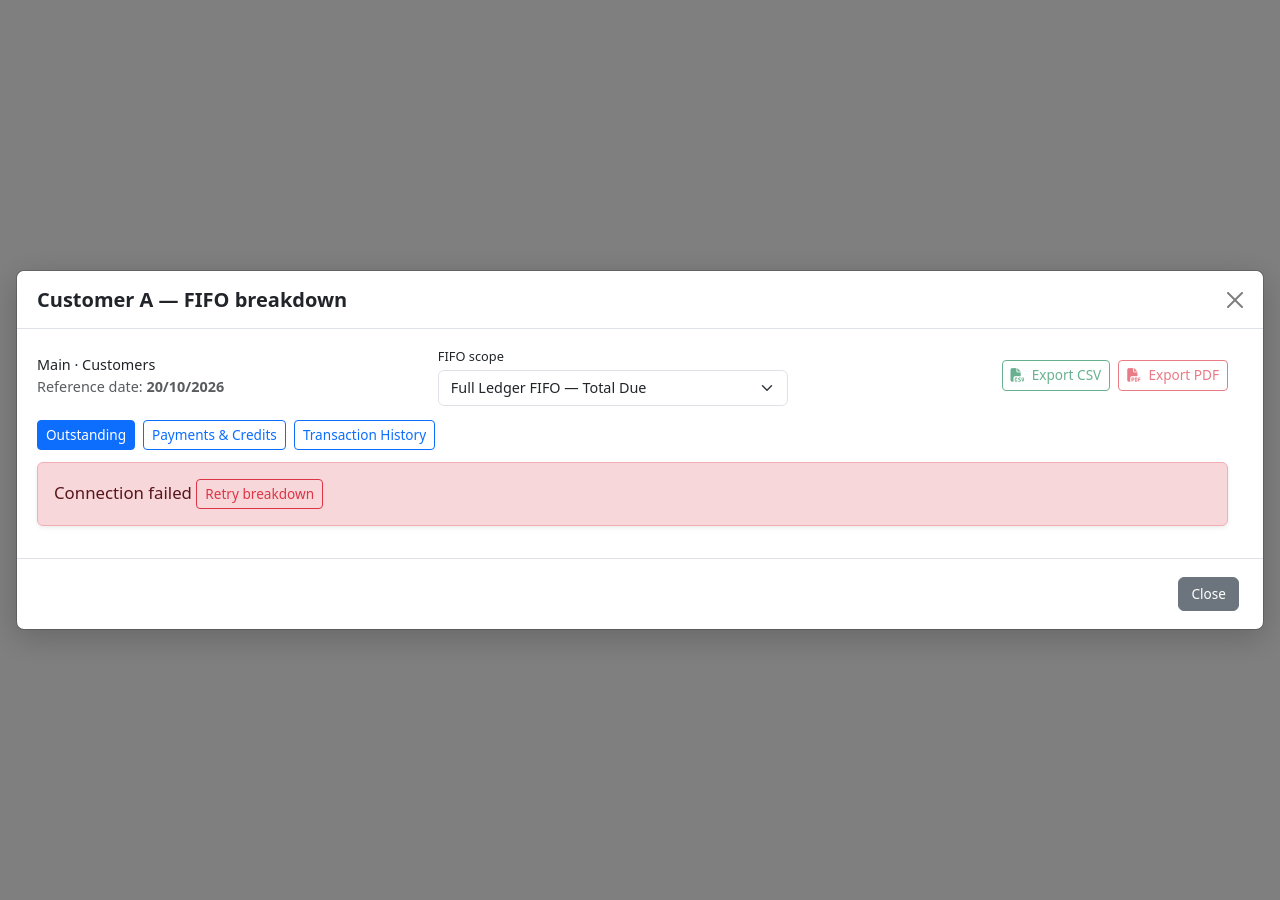
it: AgingFifoModal › keeps errors inside the modal and retries
Expected: the text "Connection failed" is shown, [54,481,192,504]
Click the button "Retry breakdown" at (260, 494), box [196,479,323,509]
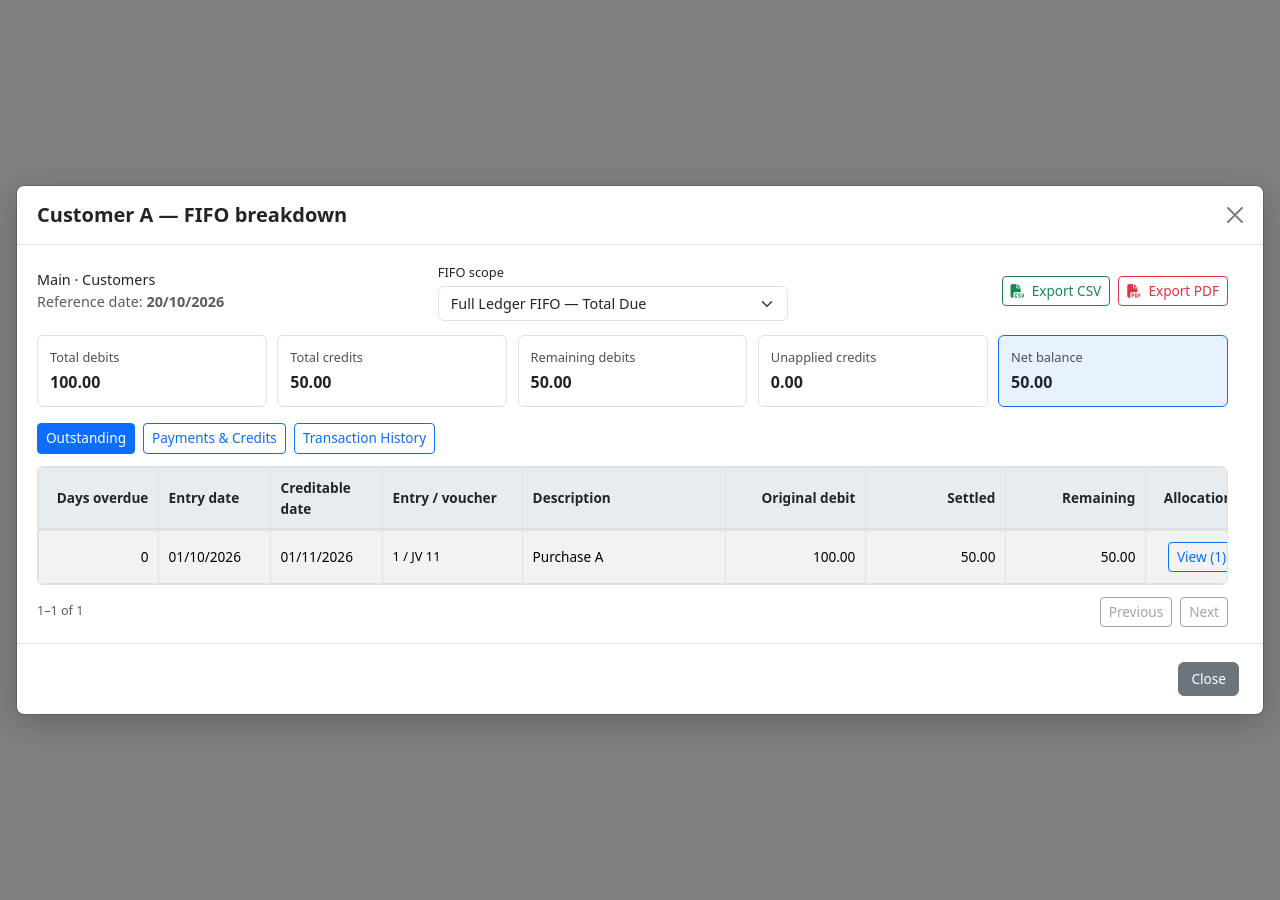
Expected: the text "Purchase A" is shown, [522,530,726,583]
